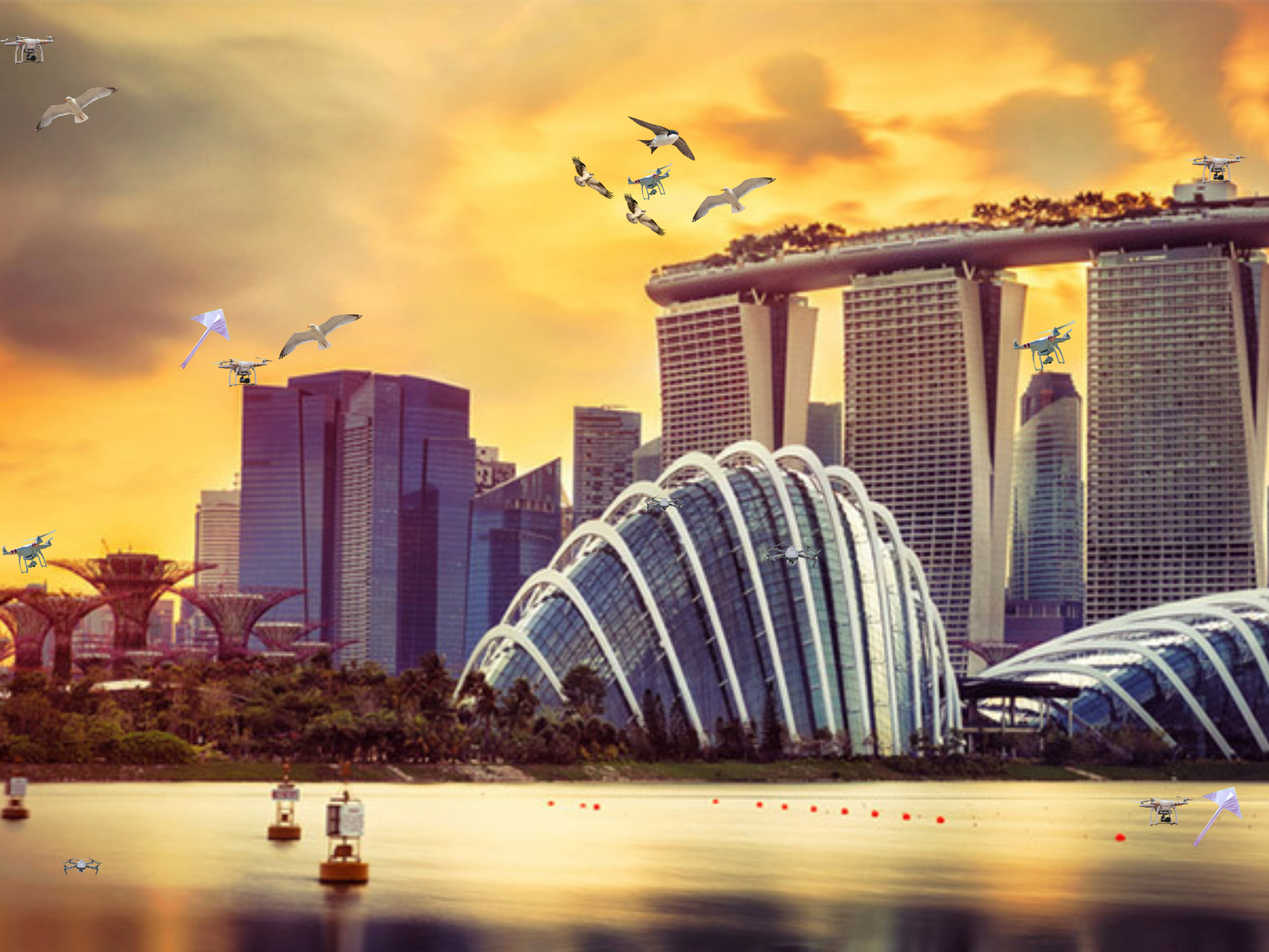drone_other: (1009, 316, 1079, 372), (1, 525, 60, 575), (1183, 151, 1249, 185), (213, 355, 273, 389), (625, 162, 676, 202), (1137, 793, 1195, 828), (0, 33, 60, 64), (765, 538, 823, 570), (62, 855, 103, 877)
